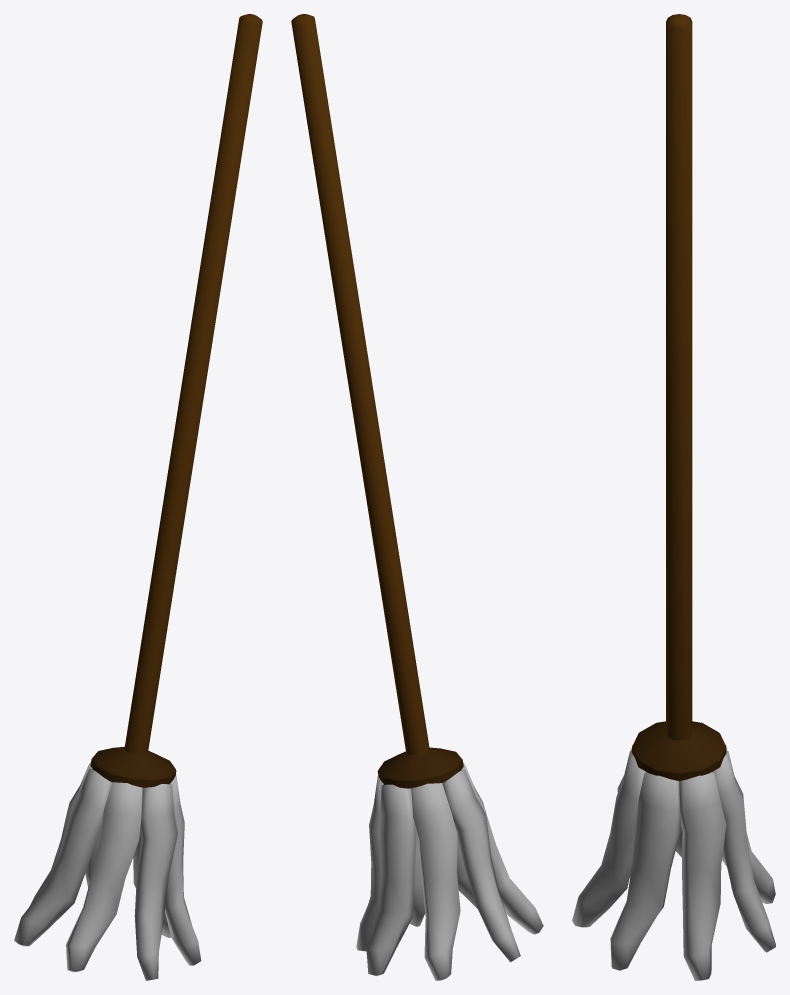
Rendered from Hea_Ba_Mop.fbx.
3 renders of one model, left to right at view 1: azimuth 30°, elevation 25°; view 2: azimuth 150°, elevation 25°; view 3: azimuth 270°, elevation 25°, orthographic. The views are drawn at different scales.
Visible parts, largest first — view 1: Mop; view 2: Mop; view 3: Mop.
Part boxes in pixels (left/top/right/bottom): Mop: left=14, top=14, right=262, bottom=980; Mop: left=291, top=14, right=543, bottom=980; Mop: left=572, top=14, right=775, bottom=980.
Size of the model in its own units: 48.15 by 177 by 32.68.
